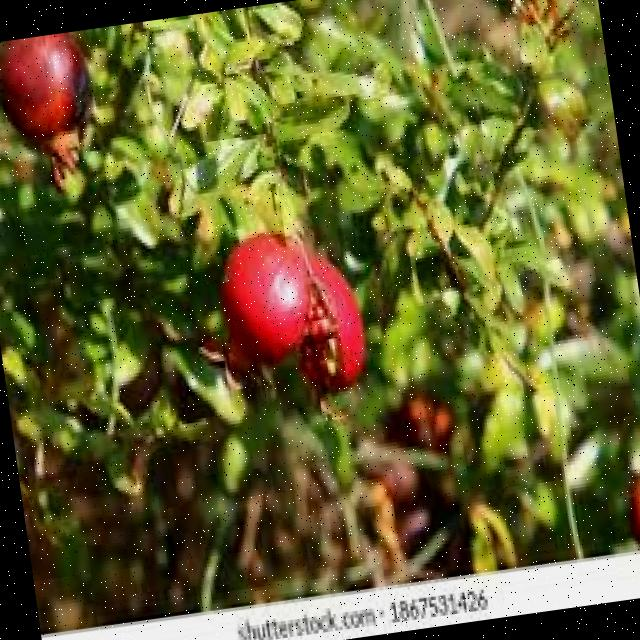overripe: (208, 222, 374, 412)
